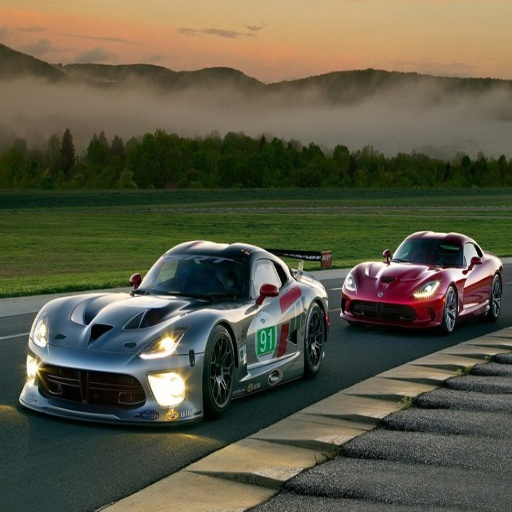front_bumper: (24, 322, 170, 419)
front_glass: (134, 246, 251, 301)
front_left_door: (247, 254, 284, 366)
